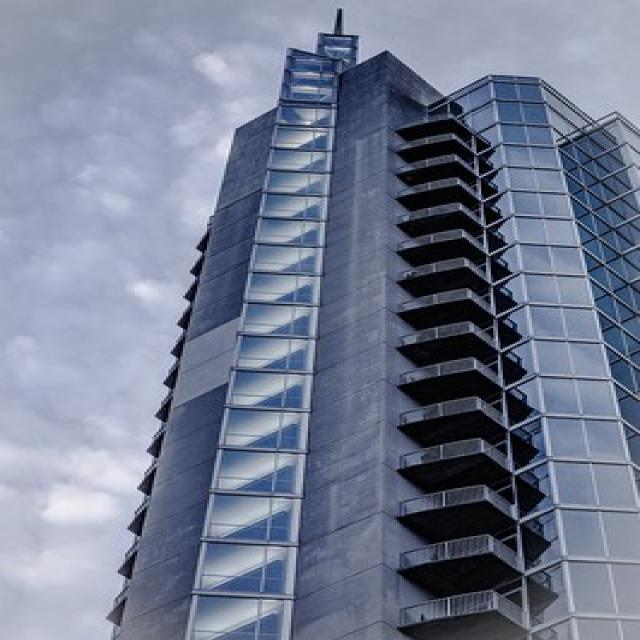Normal_building: (102, 22, 632, 638)
